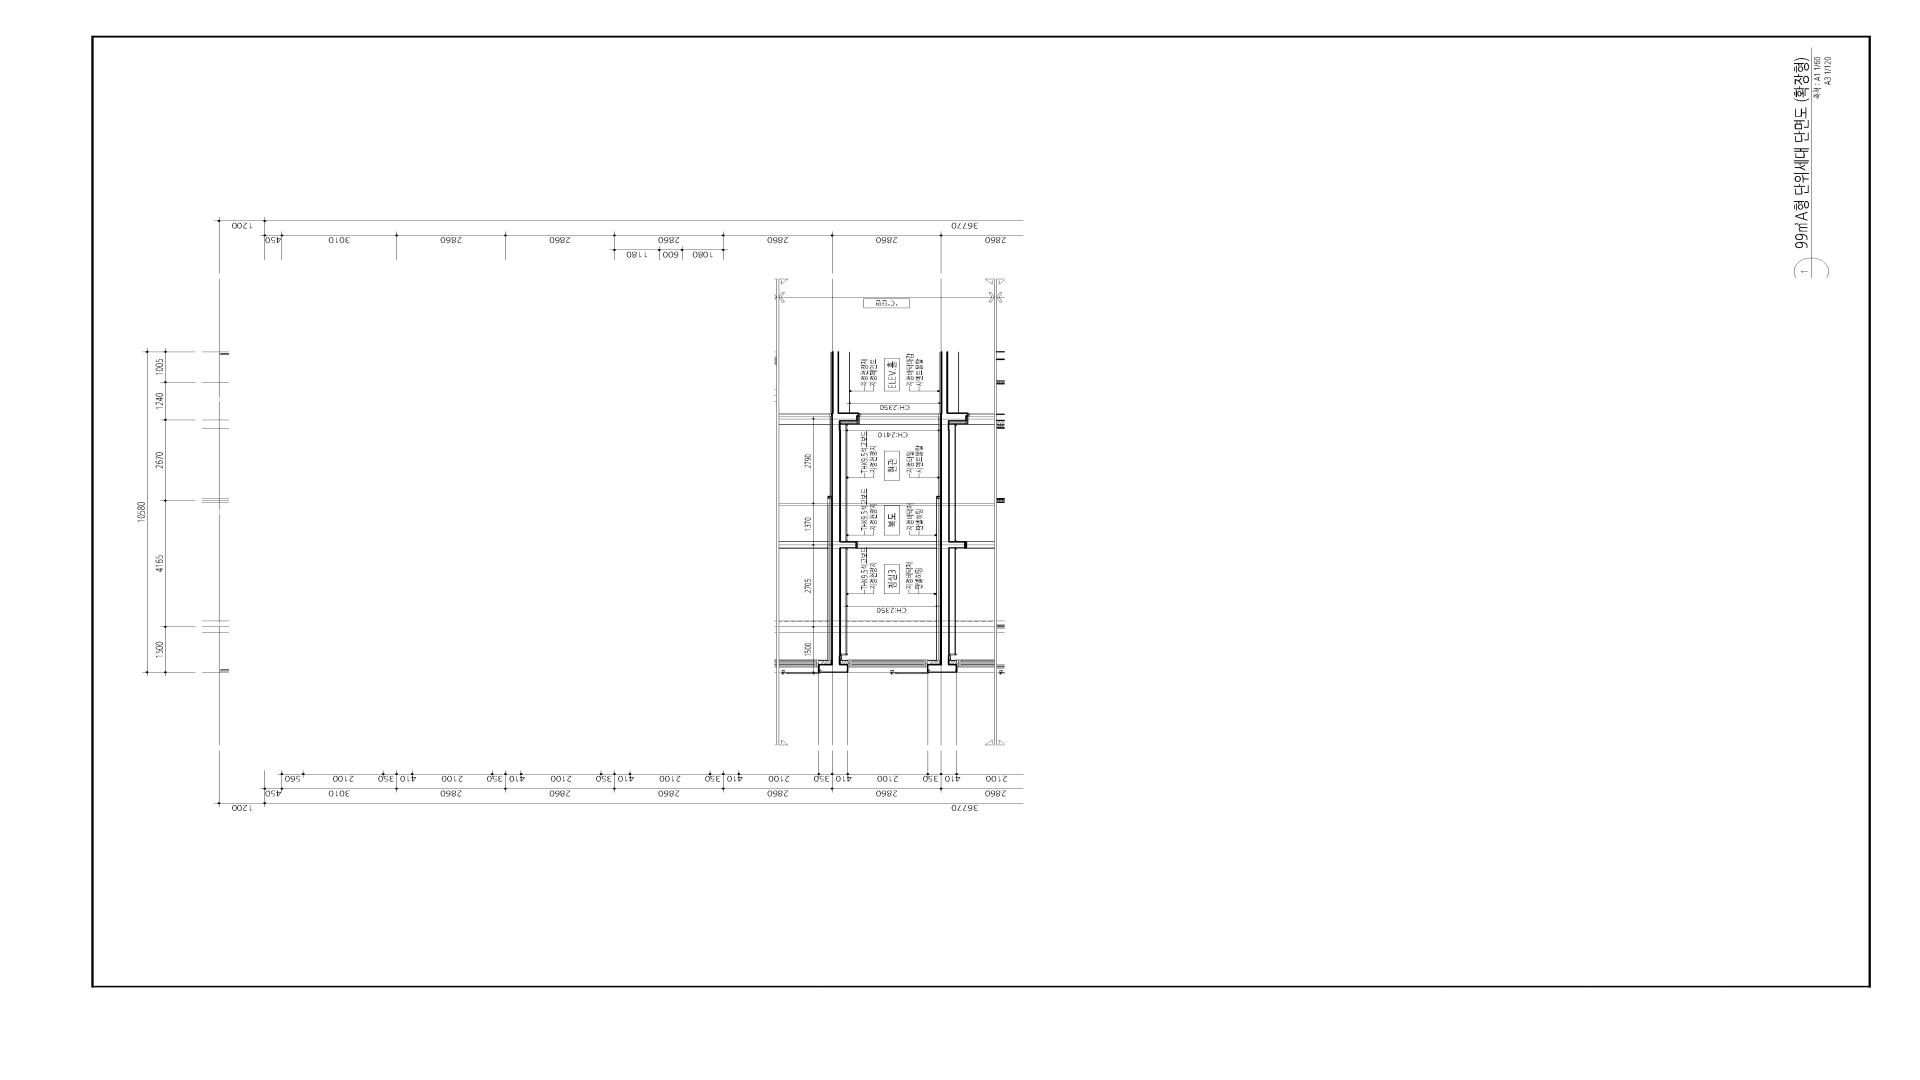background: (0, 0, 1920, 1080)
door: (860, 413, 940, 417)
wall: (832, 351, 860, 673), (927, 351, 949, 673)
window: (848, 659, 928, 674), (856, 541, 936, 549)
